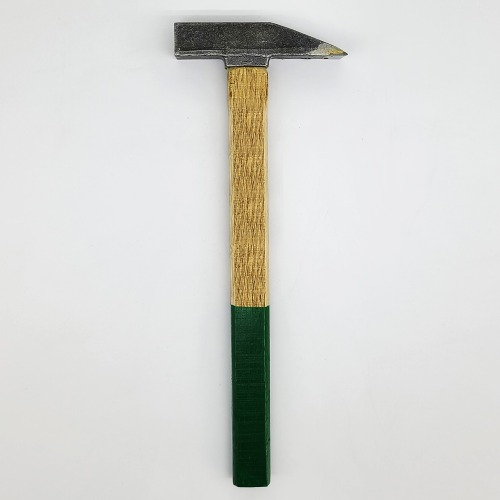hammer: (161, 10, 355, 490)
